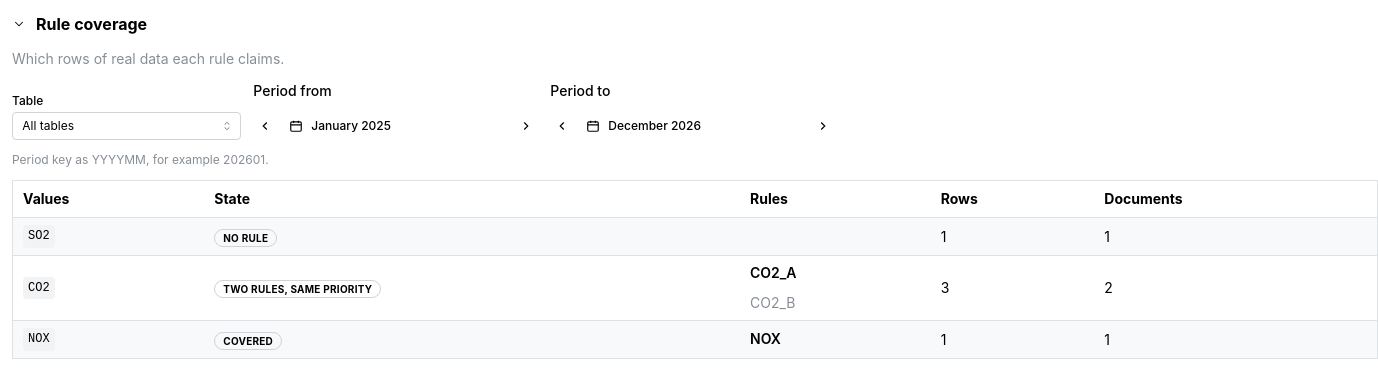
Test case: Матриця покриття правил: вибір таблиці показує назву, а не TableDefId › дзеркало: без назви (tableNameL10n null) — запасний варіант, код таблиці
Expected: the text "CO2" is shown, [23,277,55,299]
Click the field labelled "Table": (127, 126) [12,112,241,140]
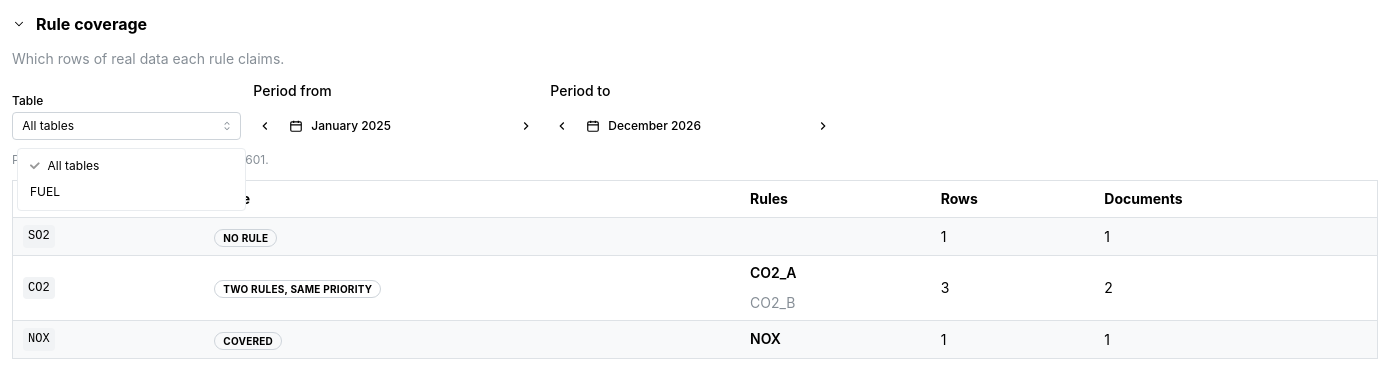
Expected: the option "FUEL" is shown, [30,184,60,199]
